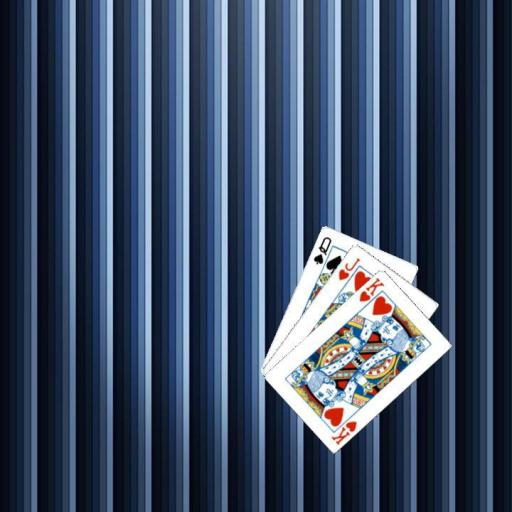JH: (335, 255, 361, 282)
KH: (356, 274, 386, 303), (328, 417, 358, 446)
QS: (310, 233, 333, 266)
